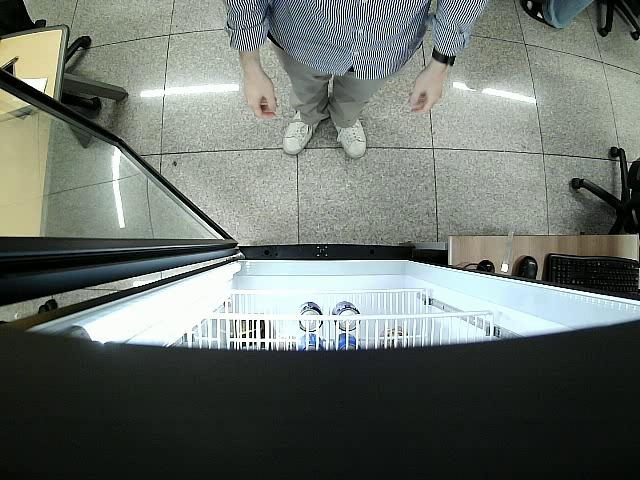00_hand: (406, 70, 446, 119), (240, 75, 280, 123)
